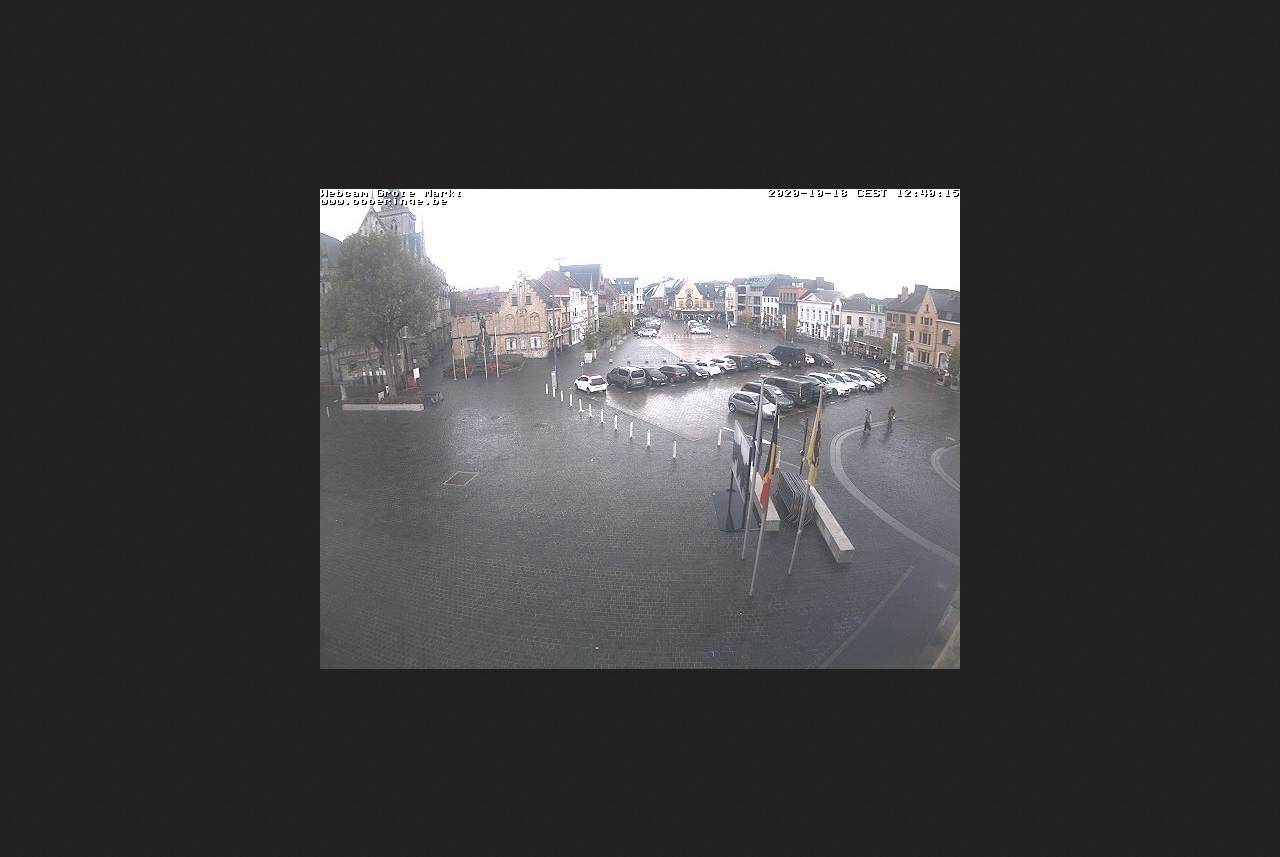no: (761, 419, 776, 519), (804, 398, 818, 488), (750, 402, 762, 463)
